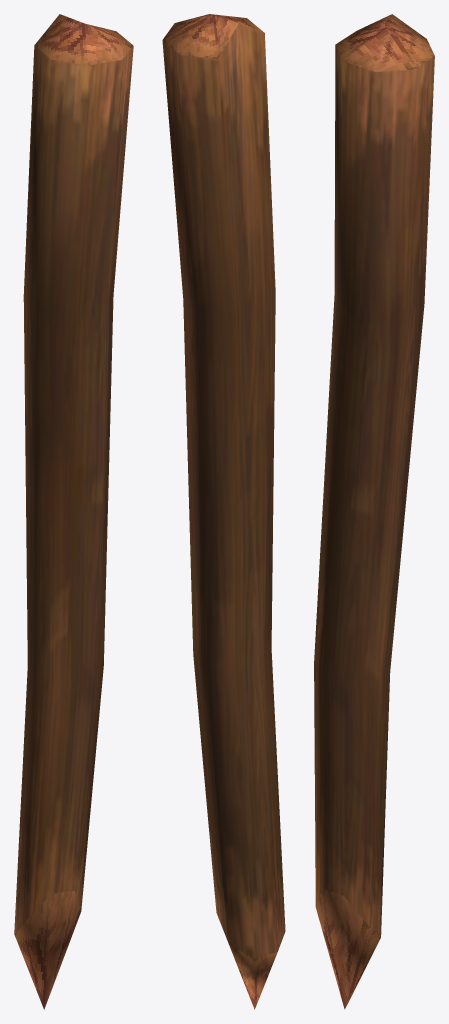
Rendered from CH4_INTRO_ANIM_INST.fbx.
3 renders of one model, left to right at view 1: azimuth 30°, elevation 25°; view 2: azimuth 210°, elevation 25°; view 3: azimuth 330°, elevation 25°, orthographic. The views are drawn at different scales.
Visible parts, largest first — view 1: CH4_INTRO_ANIM_INST; view 2: CH4_INTRO_ANIM_INST; view 3: CH4_INTRO_ANIM_INST.
Boxes of the visible parts, bbox=[...] form: CH4_INTRO_ANIM_INST: bbox=[14, 14, 133, 1009]; CH4_INTRO_ANIM_INST: bbox=[162, 14, 285, 1009]; CH4_INTRO_ANIM_INST: bbox=[314, 14, 434, 1009].
Bounding box in the file's own units: 754 × 6802 × 634.
Materials: 2 (2 with a texture image).
